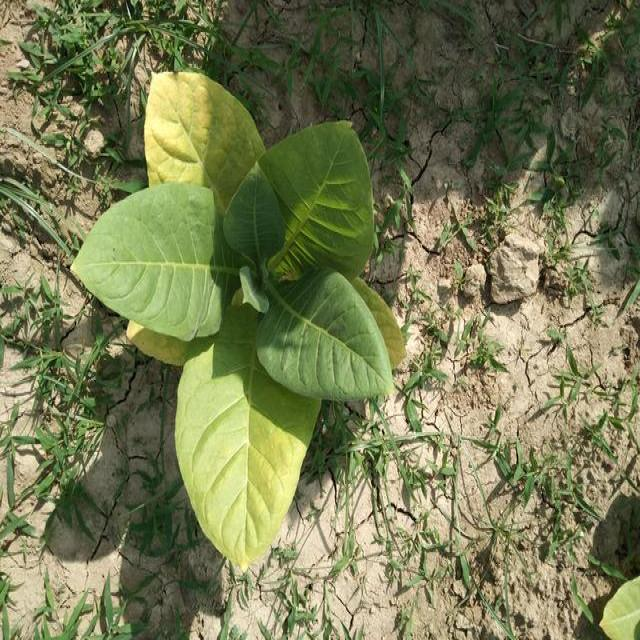crop: (69, 72, 409, 564)
